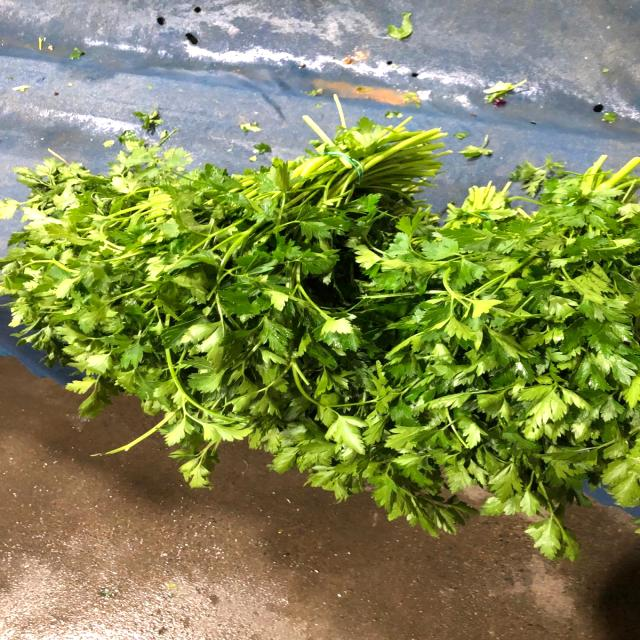parsley: (22, 99, 446, 459)
